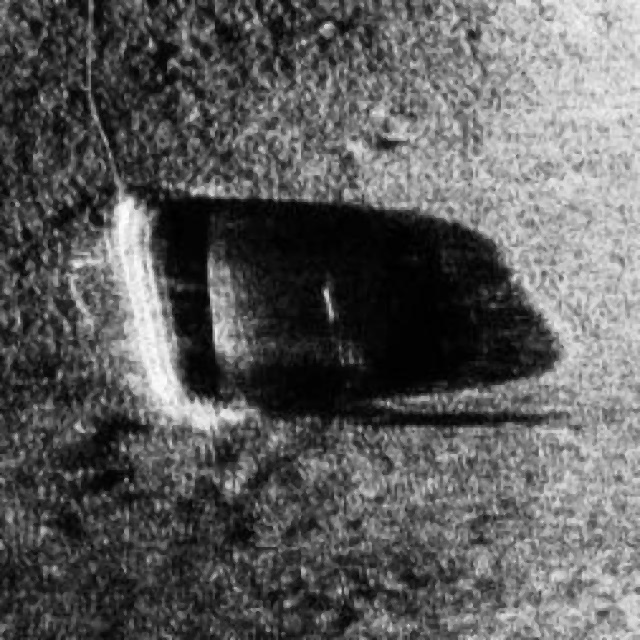Ship: (80, 166, 366, 447)
